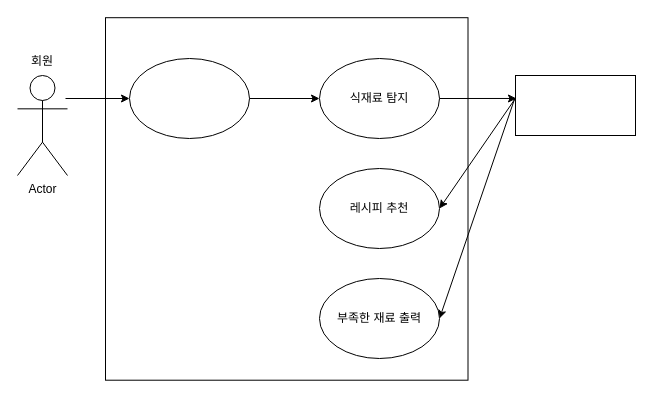
The diagram is 653 pixels wide and 398 high, and some of its shapes have lost their labels. Each missing label, with the centre of its shape:
"<<actor>> 레시피 추천 시스템" belongs at (x=575, y=105).
"식재료 촬영" belongs at (x=189, y=98).
